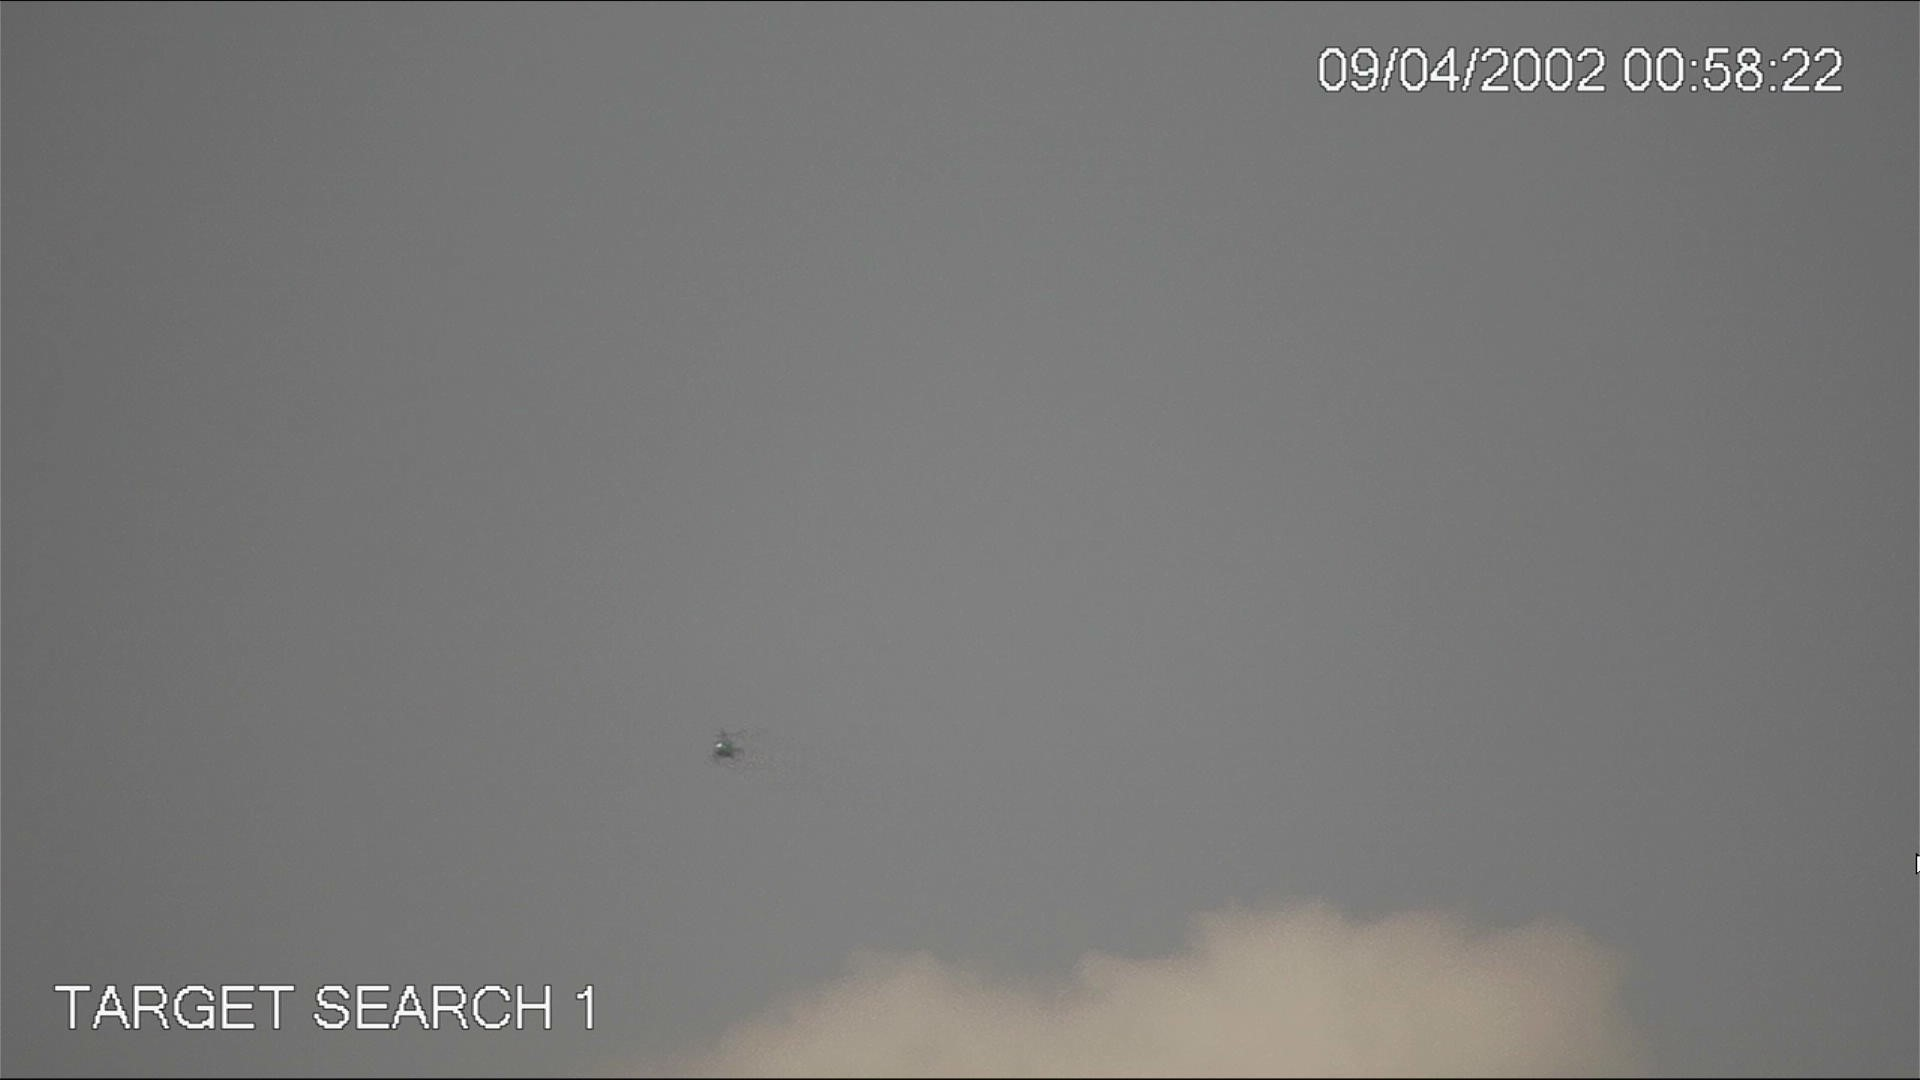SU_30: (708, 727, 737, 760)
